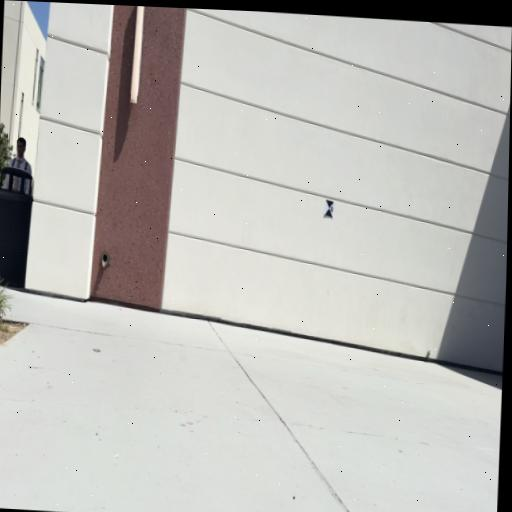target0: (324, 198, 335, 219)
